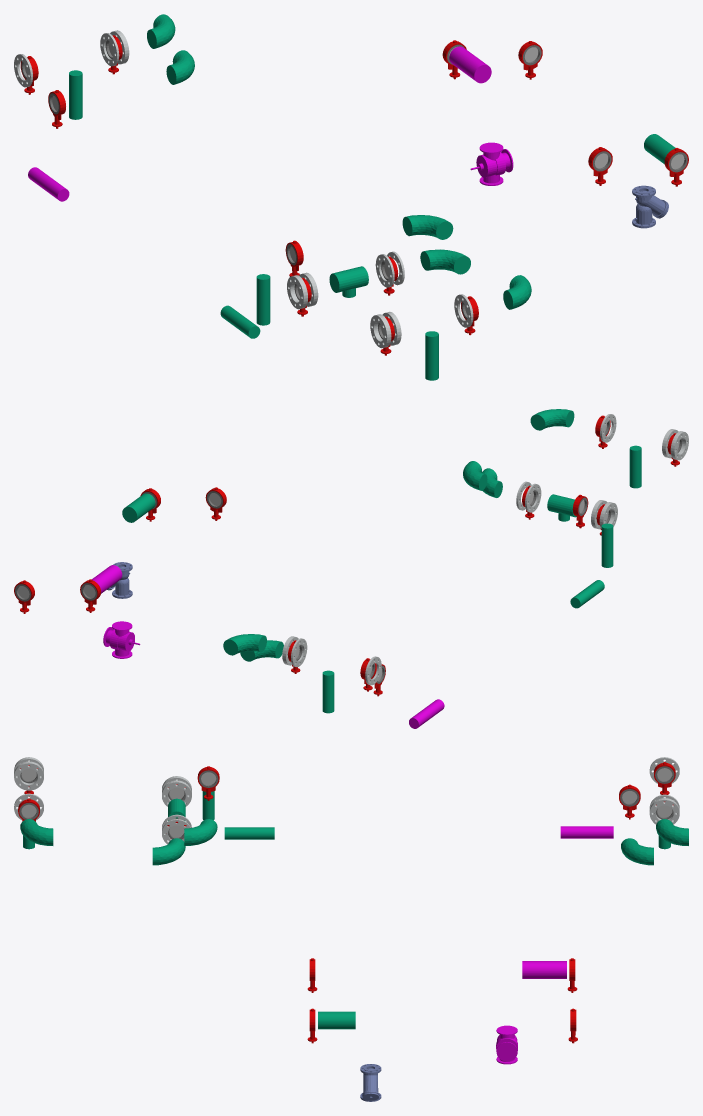
3 renders of one model, top to bottom at view 1: azimuth 30°, elevation 25°; view 2: azimuth 150°, elevation 25°; view 3: azimuth 270°, elevation 25°, orthographic. The views are drawn at different scales.
Size of the model in its own units: 4.89 by 1.48 by 6.37.
